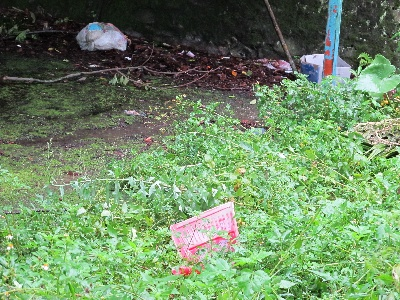plastic_bag: (75, 20, 127, 53)
